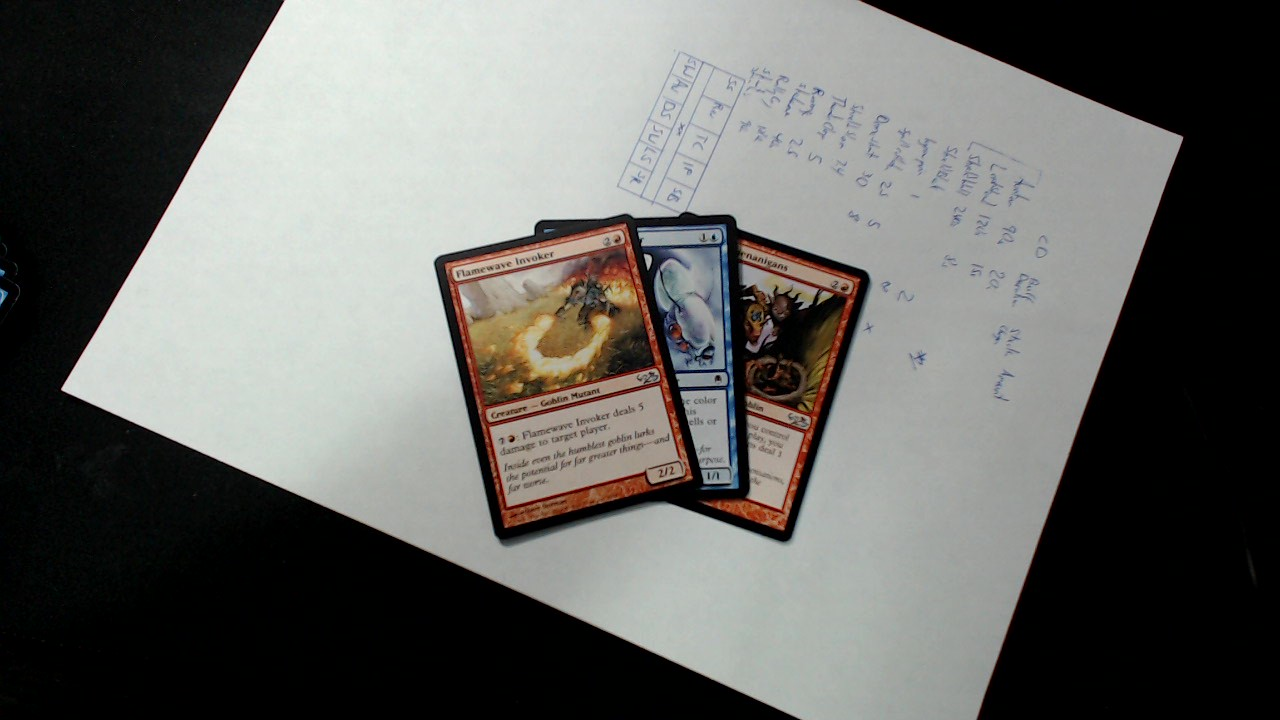MTG Card: (429, 212, 706, 545), (641, 208, 879, 548), (532, 213, 752, 504)
